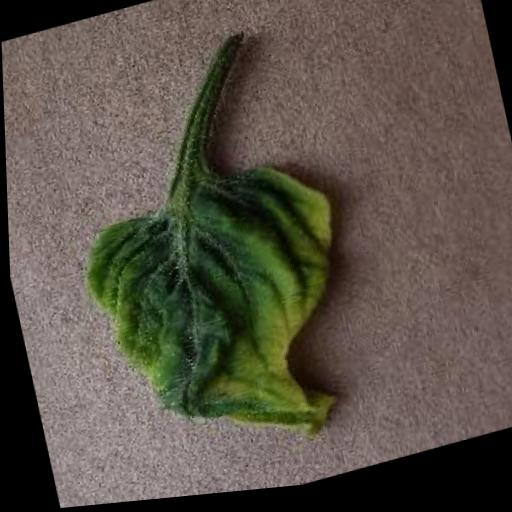Yellow Leaf Curl Virus: (67, 148, 378, 497)
